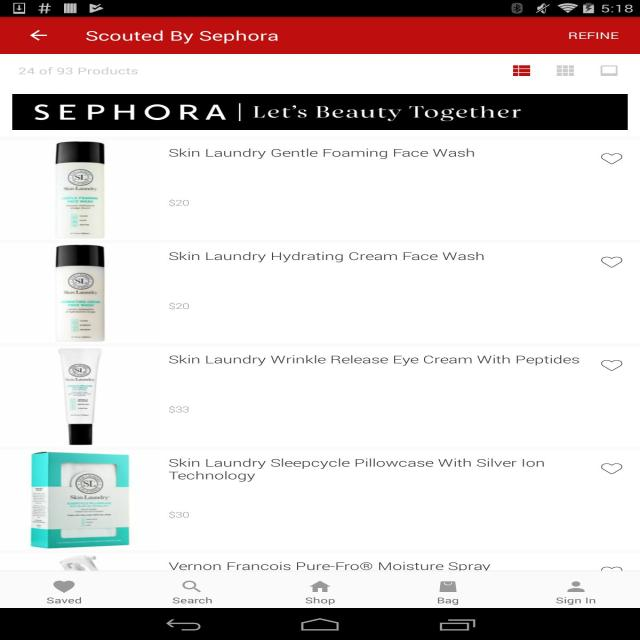button: (20, 133, 630, 242), (18, 346, 632, 450), (19, 244, 633, 346), (20, 451, 633, 549), (20, 550, 633, 572), (549, 574, 601, 607), (165, 575, 217, 607), (41, 576, 90, 607), (563, 24, 630, 45), (298, 577, 342, 607), (430, 577, 466, 607), (596, 151, 628, 168), (25, 27, 51, 45), (598, 254, 626, 270), (598, 62, 621, 79), (600, 357, 623, 373), (598, 462, 624, 476), (554, 63, 576, 79), (512, 64, 532, 78), (601, 564, 626, 571)
heading: (86, 28, 284, 46)
image: (30, 450, 131, 549), (51, 137, 110, 241), (53, 244, 109, 344), (54, 346, 108, 446), (52, 554, 110, 571)
text: (163, 456, 548, 484), (30, 103, 524, 123), (162, 353, 584, 369), (167, 147, 479, 164), (166, 250, 487, 266), (168, 562, 497, 572), (16, 64, 141, 79), (164, 404, 197, 416), (167, 508, 193, 522), (165, 197, 192, 209), (167, 301, 193, 312)
